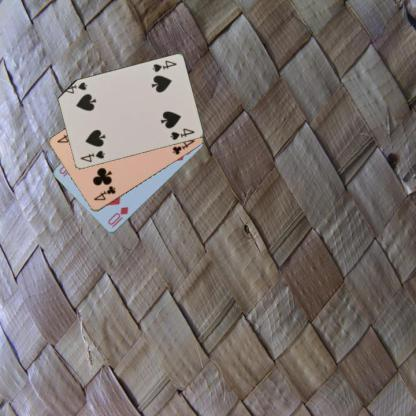10d: (105, 204, 130, 229)
4c: (90, 183, 116, 202)
4s: (77, 148, 106, 163), (150, 58, 178, 73)
